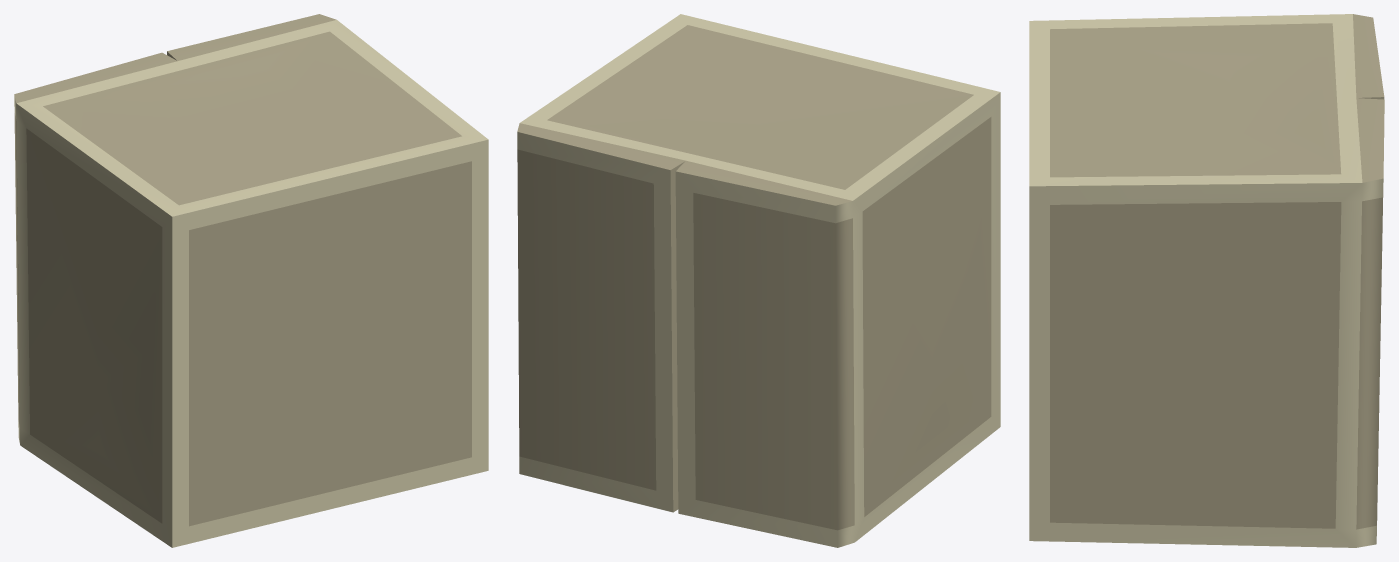
Rendered from FloatingBoxE.fbx.
The picture shows the model from 3 angles, left to right: view 1: azimuth 30°, elevation 25°; view 2: azimuth 150°, elevation 25°; view 3: azimuth 270°, elevation 25°; orthographic projection. The views are drawn at different scales.
Parts seen in each view (by area): view 1: FloatingBoxE; view 2: FloatingBoxE; view 3: FloatingBoxE.
Part boxes in pixels (x1,y1,x2,y2): FloatingBoxE: (14, 14, 488, 547); FloatingBoxE: (517, 14, 1000, 547); FloatingBoxE: (1029, 14, 1384, 547).
Bounding box in the file's own units: 58.42 × 58.55 × 51.47.
